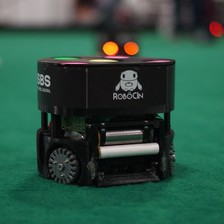robot: (35, 51, 179, 187)
